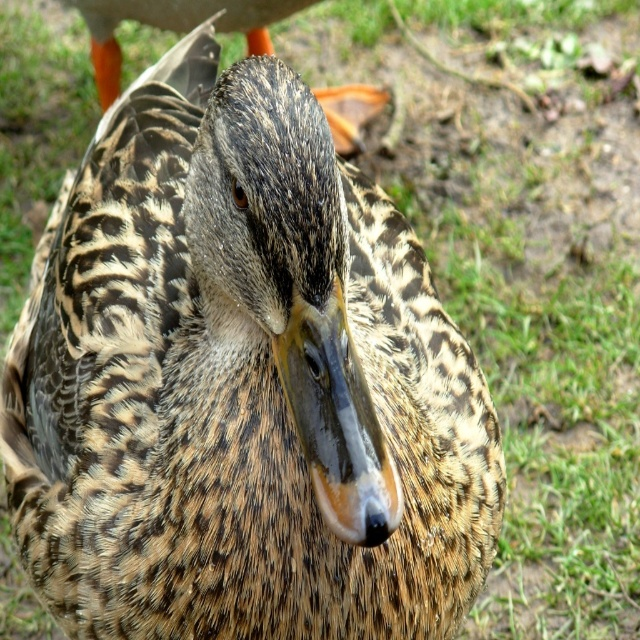Duck: (36, 52, 512, 640)
